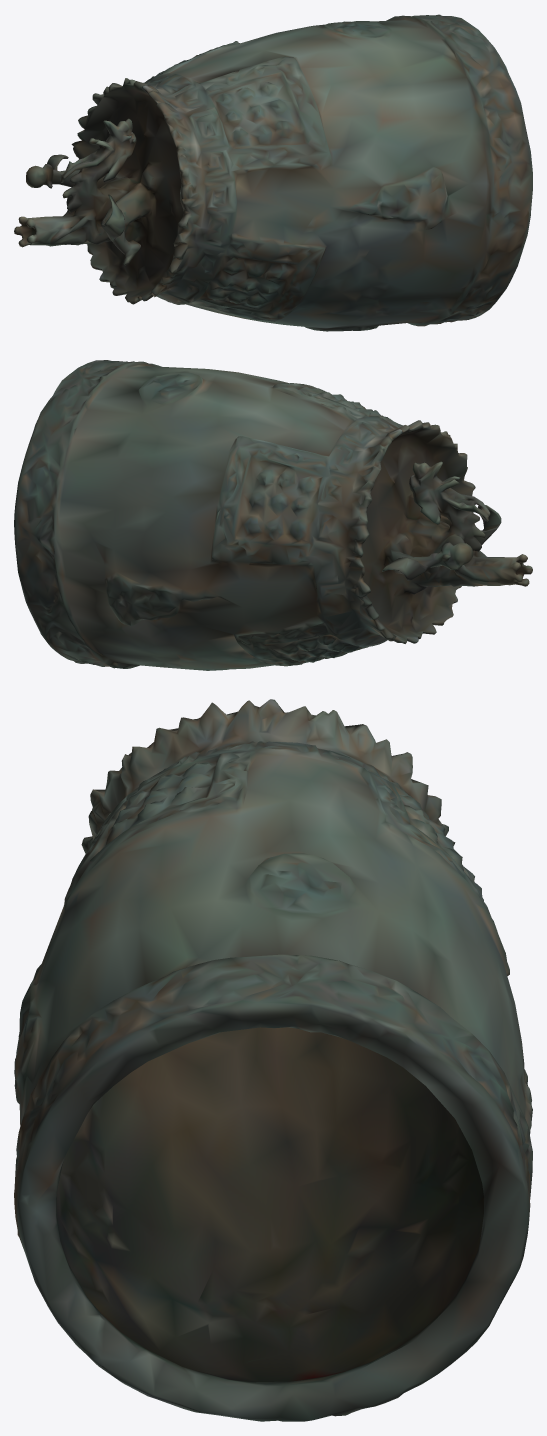
File: broken-bell.glb
3 renders of one model, top to bottom at view 1: azimuth 30°, elevation 25°; view 2: azimuth 150°, elevation 25°; view 3: azimuth 270°, elevation 25°, orthographic. The views are drawn at different scales.
Visible parts, largest first — view 1: body; view 2: body; view 3: body.
Part boxes in pixels (bbox=[...]): body: bbox=[14, 14, 532, 331]; body: bbox=[14, 360, 532, 670]; body: bbox=[14, 699, 532, 1421].
Size of what is drawn, in the model's own units: 2.6 by 1.62 by 1.53.
